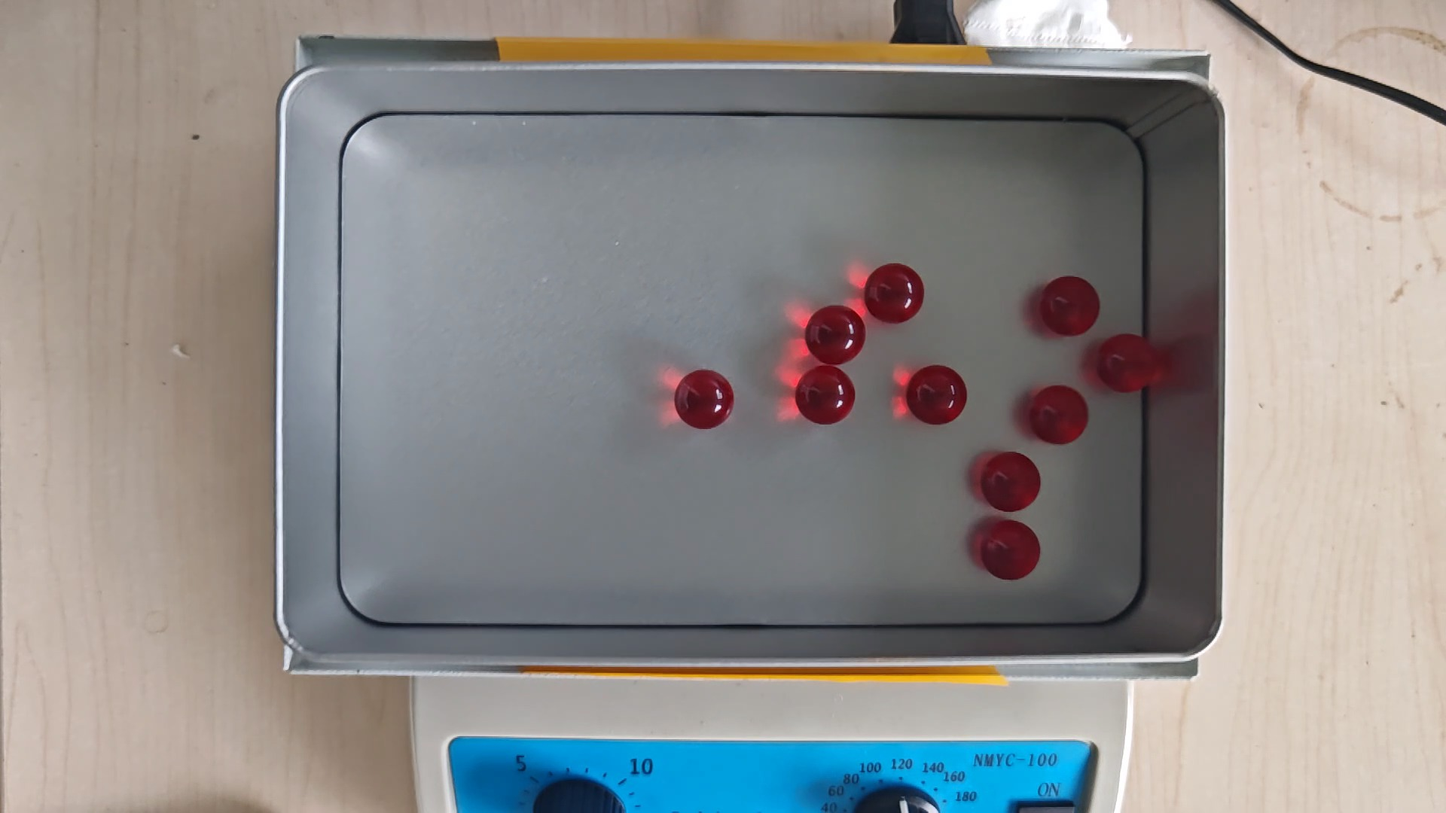ball: (980, 519, 1041, 582), (907, 364, 968, 426), (981, 451, 1041, 513), (1029, 385, 1089, 447), (1040, 275, 1100, 337), (865, 262, 924, 325), (675, 369, 735, 430), (806, 304, 865, 365), (796, 365, 855, 426), (1097, 334, 1155, 393)
container: (331, 108, 1150, 625)
